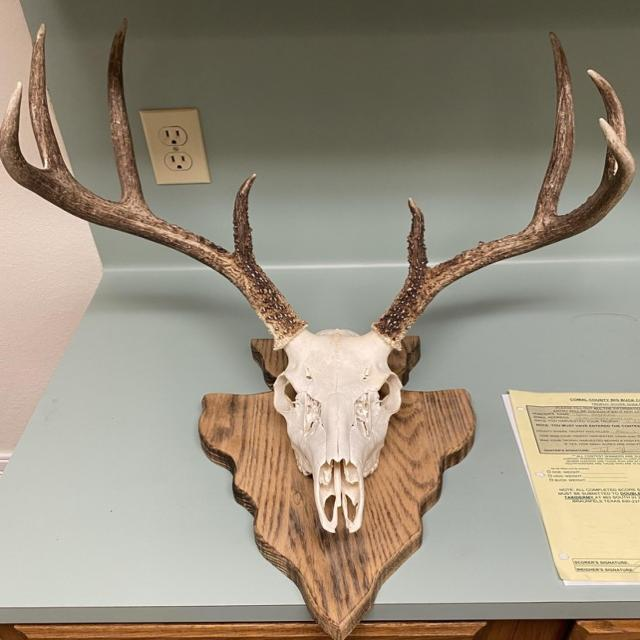L-F: (374, 116, 635, 341)
L-G1: (407, 199, 427, 276)
L-G2: (534, 32, 574, 226)
R-F: (0, 80, 303, 339)
R-G1: (232, 174, 258, 266)
R-G2: (108, 20, 145, 203)
R-G3: (28, 25, 64, 169)
